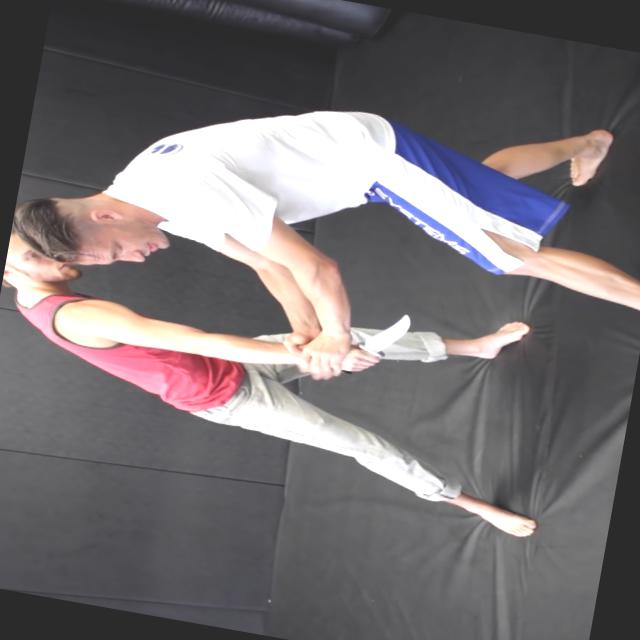knife: (338, 299, 419, 388)
